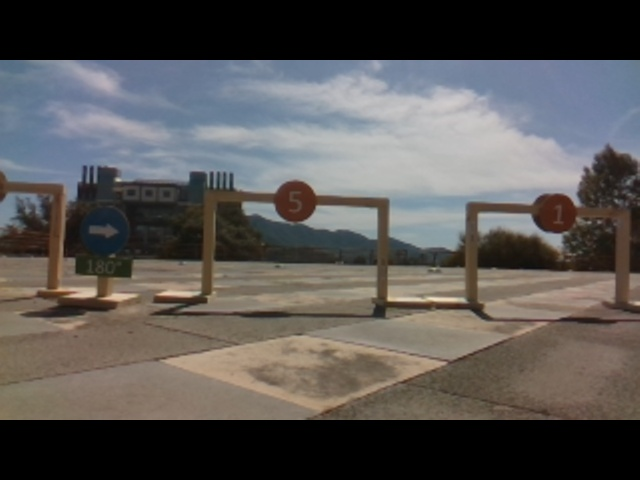180_degree: (72, 253, 136, 279)
arrow_right: (79, 206, 131, 255)
checkpoint_foot: (154, 284, 215, 303), (428, 292, 484, 309), (371, 292, 428, 308)
checkpoint_side: (46, 178, 65, 288), (200, 186, 217, 292), (463, 199, 480, 301), (613, 206, 631, 302), (375, 191, 390, 298)
checkpoint_signal: (201, 184, 391, 208), (464, 197, 631, 219)
five: (276, 179, 317, 224)
one: (538, 193, 579, 233)
